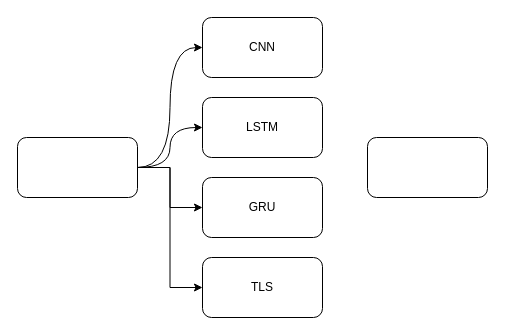
Image size: 505x335. Some labels were removed from this diagram. The centre of each missing label's shape, as x and y in pixels:
"Agregator" belongs at point (427, 167).
"Meta-classifier (bitmask)" belongs at point (77, 167).
